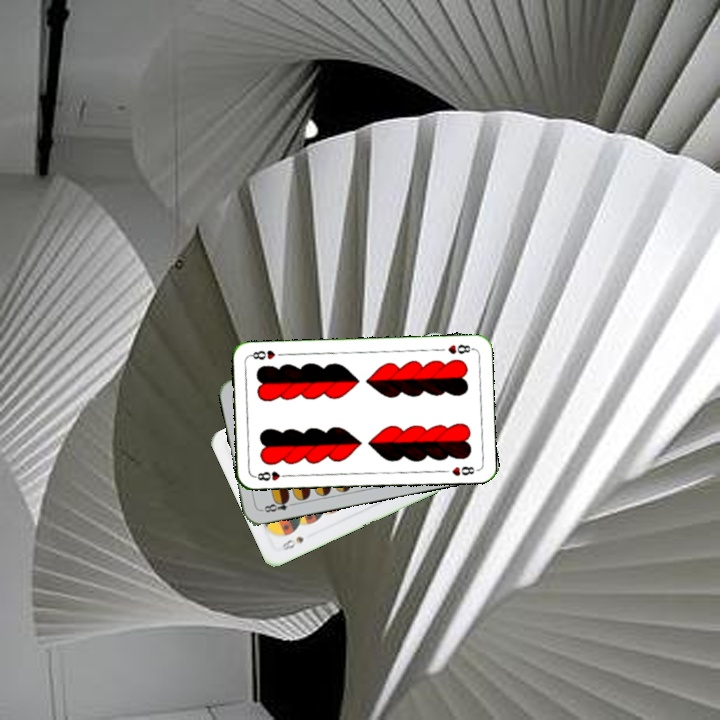E8: (257, 494, 298, 515)
H8: (251, 467, 291, 484), (444, 340, 476, 357)
S8: (278, 532, 306, 553)
